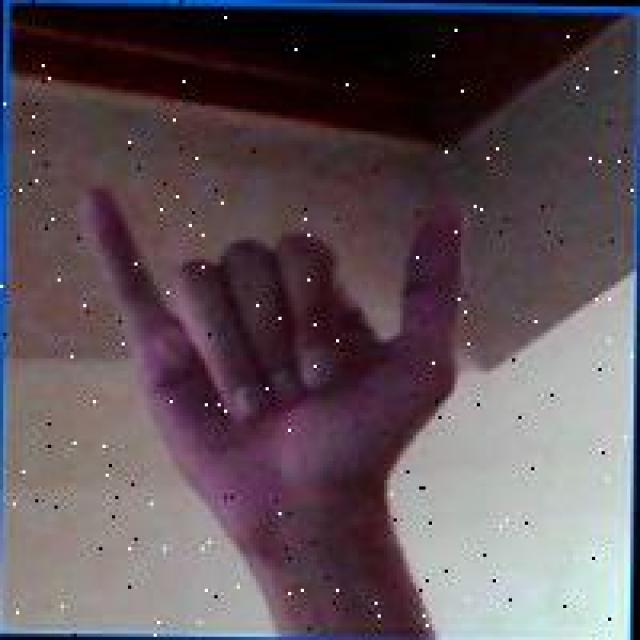Y: (69, 176, 482, 547)
